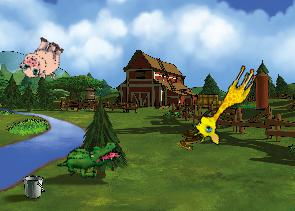crocodile: (55, 126, 124, 191)
giraffe: (189, 57, 260, 150)
pig: (16, 32, 68, 86)
